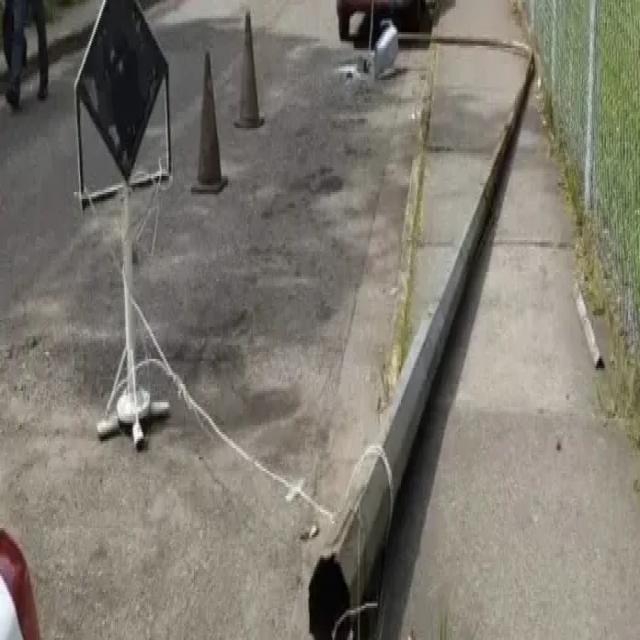Inclined Pole: (301, 25, 536, 636)
